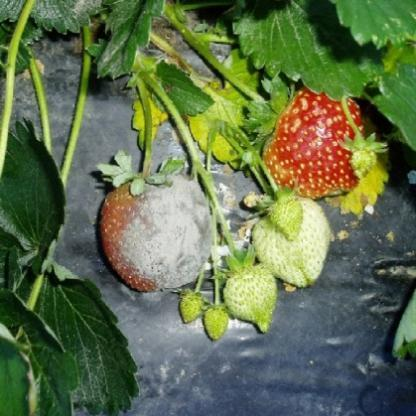Strawberry_Gray_Mold: (100, 173, 214, 291)
